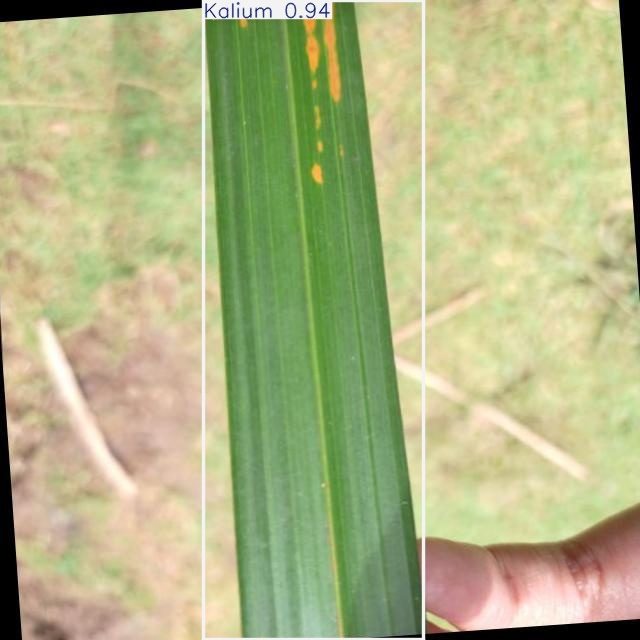Kalium: (203, 0, 424, 640)
